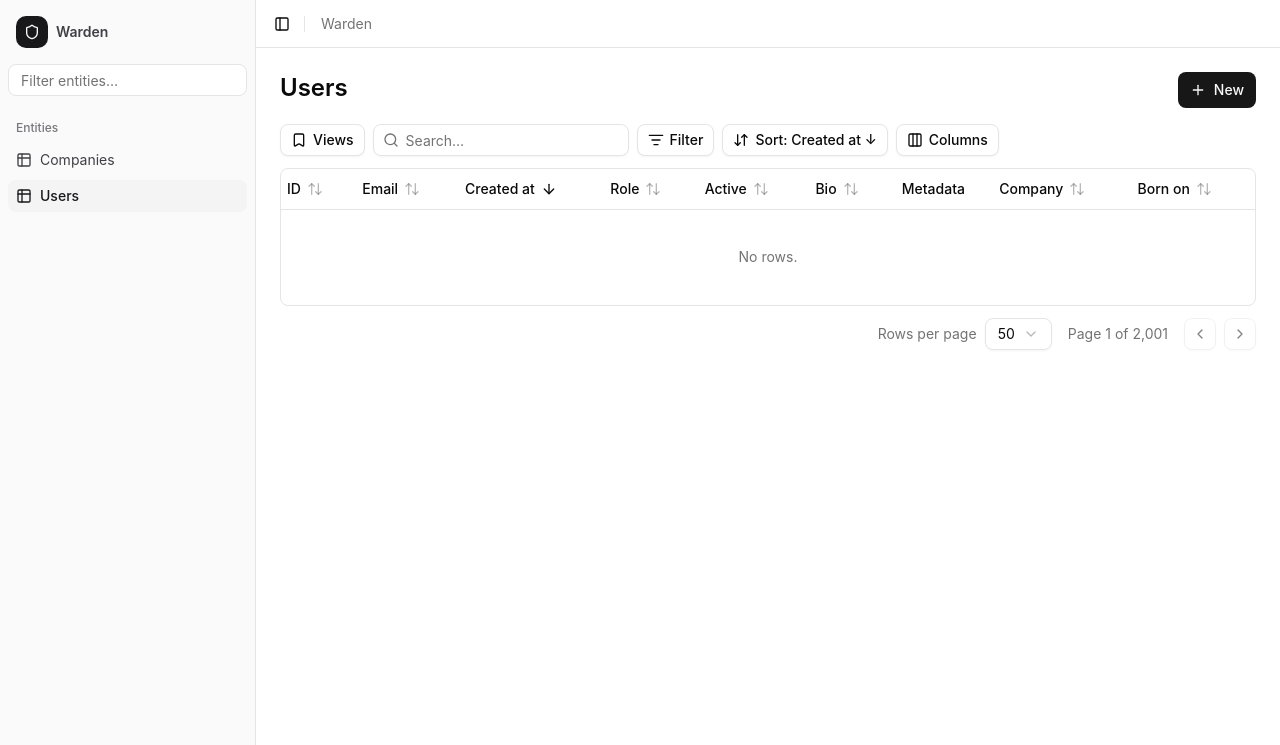
creating a record › links to the form from the list for users who may create
What coordinates should you click on to do the following:
click the link "New"
I would click on:
 (1217, 90)
Its box is x1=1178 y1=72 x2=1256 y2=108.
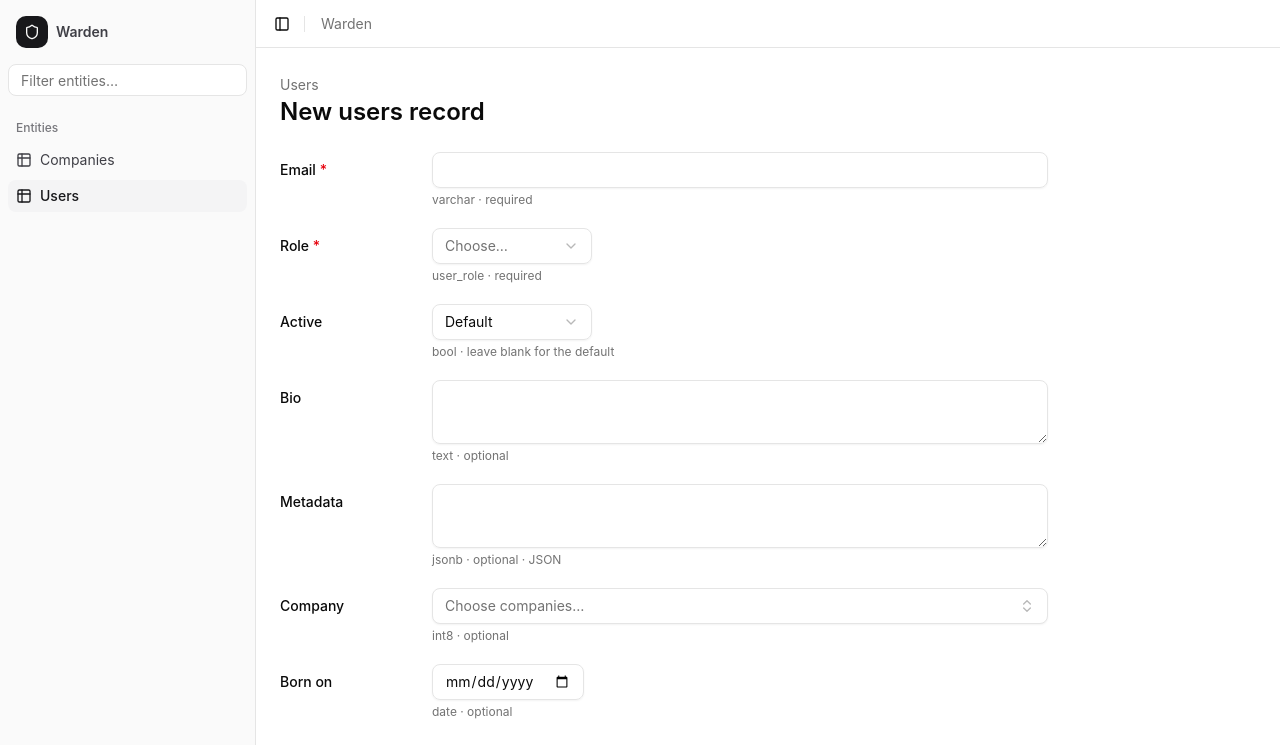
Expected: the heading "New users record" is shown, x1=280 y1=97 x2=485 y2=126
